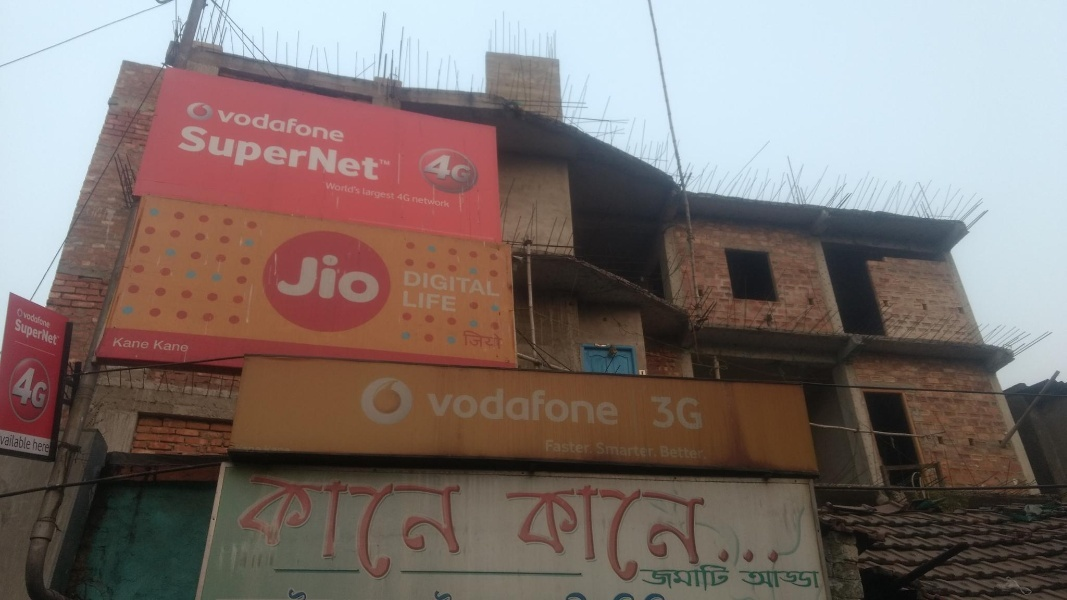text: (257, 473, 272, 597), (273, 473, 288, 597), (289, 473, 304, 597), (305, 473, 320, 597), (321, 473, 336, 597), (337, 473, 352, 597), (353, 473, 368, 597), (369, 473, 384, 597), (385, 473, 400, 597), (401, 473, 416, 597), (417, 473, 432, 597), (433, 473, 448, 597), (449, 473, 464, 597), (513, 480, 528, 585), (529, 480, 544, 585), (545, 480, 560, 585), (561, 480, 576, 585), (577, 480, 592, 585), (593, 480, 608, 585), (609, 480, 624, 585), (625, 480, 640, 585), (641, 480, 656, 585), (657, 480, 672, 585), (673, 480, 688, 585), (689, 480, 704, 585), (465, 473, 473, 597), (289, 250, 304, 307), (305, 250, 320, 307), (321, 250, 336, 307), (337, 250, 352, 307), (353, 250, 368, 307), (504, 480, 512, 585), (193, 123, 208, 177), (209, 123, 224, 177), (225, 123, 240, 177), (241, 123, 256, 177), (257, 123, 272, 177), (273, 123, 288, 177), (289, 123, 304, 177), (33, 362, 49, 410), (250, 473, 256, 597), (433, 385, 448, 427), (449, 385, 464, 427), (465, 385, 480, 427), (481, 385, 496, 427), (497, 385, 512, 427), (513, 385, 528, 427), (529, 385, 544, 427), (545, 385, 560, 427), (561, 385, 576, 427), (577, 385, 592, 427), (593, 385, 608, 427), (609, 385, 624, 427), (705, 480, 711, 585), (369, 250, 380, 307), (225, 105, 240, 144), (241, 105, 256, 144), (257, 105, 272, 144), (273, 105, 288, 144), (289, 105, 304, 144), (305, 105, 320, 144), (321, 105, 336, 144), (657, 394, 672, 433), (673, 394, 688, 433), (689, 394, 704, 433), (321, 145, 336, 181), (337, 145, 352, 181), (353, 145, 368, 181), (21, 362, 32, 410), (433, 149, 448, 184), (449, 149, 464, 184), (641, 561, 656, 593), (657, 561, 672, 593), (673, 561, 688, 593), (689, 561, 704, 593), (705, 561, 720, 593), (17, 317, 32, 348), (33, 317, 48, 348), (369, 145, 381, 181), (184, 123, 192, 177), (309, 145, 320, 181), (417, 271, 432, 297), (433, 271, 448, 297), (449, 271, 464, 297), (465, 271, 480, 297), (481, 271, 496, 297), (417, 291, 432, 315), (433, 291, 448, 315), (721, 561, 732, 593), (647, 394, 656, 433), (49, 317, 60, 348), (402, 291, 416, 315), (33, 308, 48, 330), (465, 329, 480, 350), (481, 329, 496, 350), (404, 271, 416, 297), (337, 105, 345, 144), (753, 570, 768, 590), (769, 570, 784, 590), (785, 570, 800, 590), (801, 570, 816, 590), (449, 291, 461, 315), (738, 570, 752, 590), (465, 149, 473, 184), (609, 442, 624, 460), (625, 442, 640, 460), (1, 433, 16, 451), (641, 442, 655, 460), (426, 385, 432, 427), (17, 433, 31, 451), (689, 445, 705, 460), (545, 439, 560, 454), (561, 439, 576, 454), (673, 445, 688, 460), (33, 439, 49, 453), (305, 123, 309, 177), (577, 439, 591, 454), (337, 181, 352, 195), (369, 187, 384, 201), (129, 337, 144, 351), (161, 339, 176, 353), (597, 442, 608, 460), (23, 308, 32, 330), (114, 337, 128, 351), (417, 196, 432, 209), (433, 196, 448, 209), (427, 149, 432, 184), (285, 250, 288, 307), (177, 339, 189, 353), (661, 445, 672, 460), (497, 271, 503, 297), (220, 105, 224, 144), (497, 329, 504, 350), (817, 570, 824, 590), (326, 181, 336, 195), (385, 187, 395, 201), (353, 181, 361, 195), (49, 308, 54, 330), (401, 193, 411, 204), (363, 187, 368, 201), (145, 337, 150, 351), (155, 339, 160, 353), (412, 196, 416, 209), (385, 159, 391, 167), (379, 159, 384, 167), (397, 193, 400, 204), (15, 317, 16, 348), (449, 196, 451, 209), (463, 329, 464, 350)
